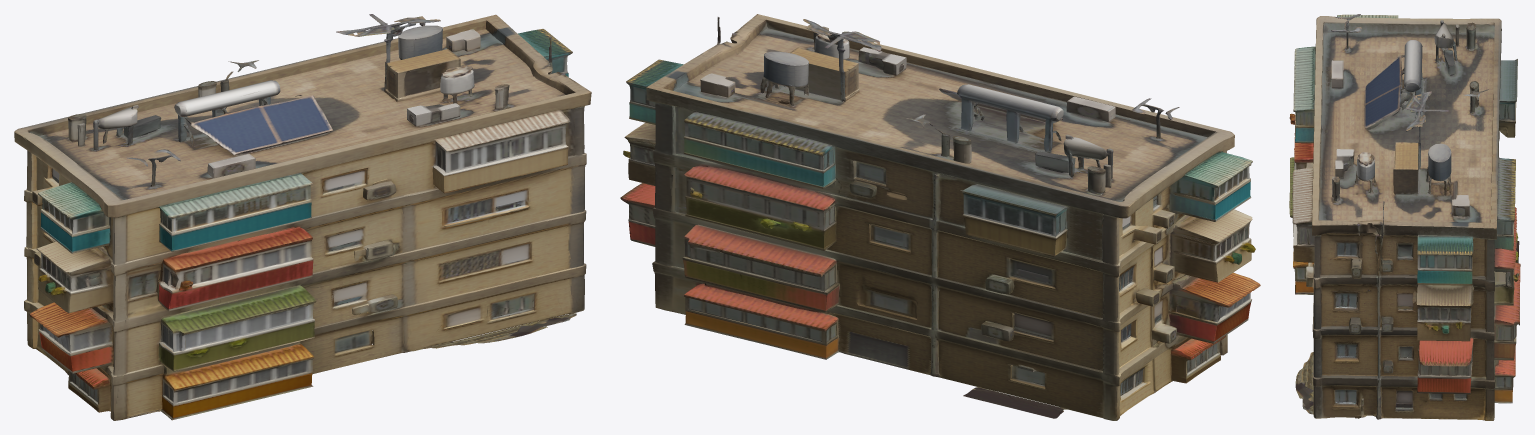
The model's file is r3_devtown_a.glb.
3 views of the same model, side by side, from view 1: azimuth 30°, elevation 25°; view 2: azimuth 150°, elevation 25°; view 3: azimuth 270°, elevation 25° (orthographic). The views are drawn at different scales.
Parts seen in each view (by area): view 1: geometry_0; view 2: geometry_0; view 3: geometry_0.
Boxes of the visible parts, x1,y1,x2,y2 form: geometry_0: (14, 14, 591, 420); geometry_0: (620, 14, 1260, 420); geometry_0: (1289, 14, 1520, 420).
Size of the model in its own units: 27.99 by 13 by 11.
1 material, 1 textured.
